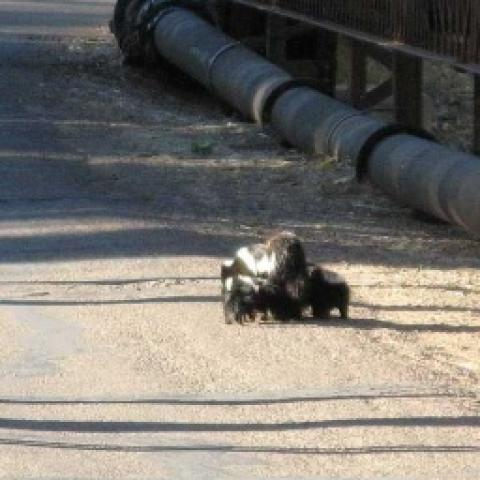small_animal: (212, 230, 304, 302), (278, 256, 354, 321), (220, 273, 277, 323)
